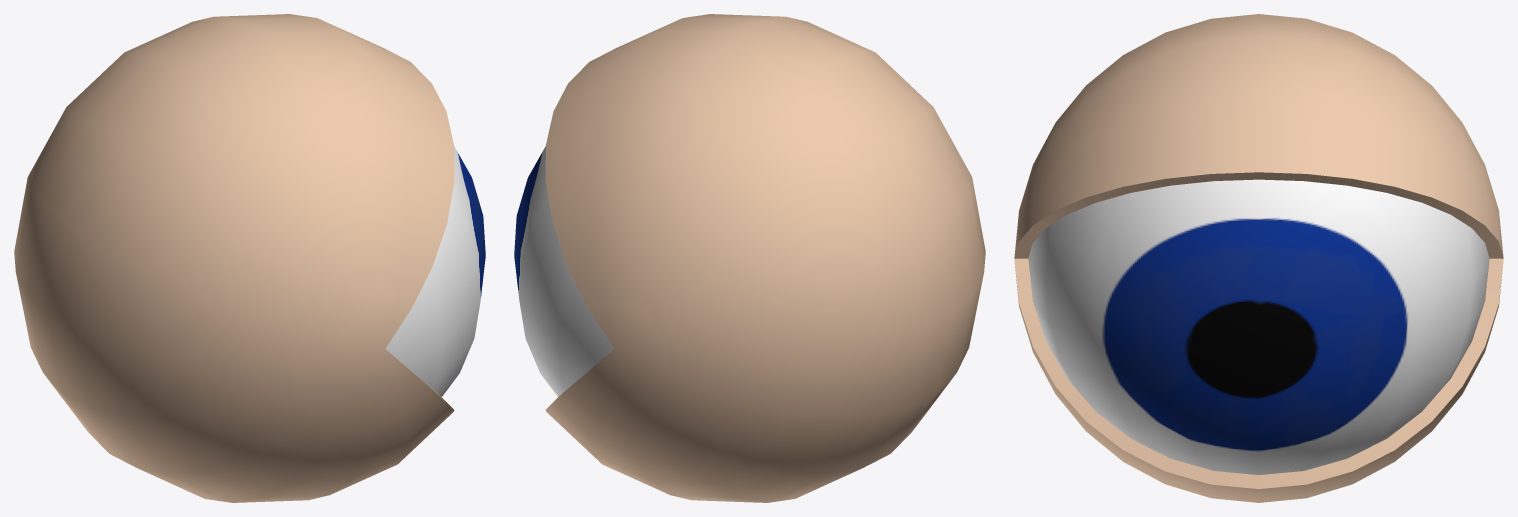
Rendered from eyeball.fbx.
The picture shows the model from 3 angles, left to right: view 1: azimuth 30°, elevation 25°; view 2: azimuth 150°, elevation 25°; view 3: azimuth 270°, elevation 25°; orthographic projection.
Parts seen in each view (by area): view 1: pSphere3; view 2: pSphere3; view 3: pSphere3.
Boxes of the visible parts, x1,y1,x2,y2 form: pSphere3: [14, 14, 485, 502]; pSphere3: [514, 14, 985, 502]; pSphere3: [1014, 14, 1503, 502].
Size of the model in its own units: 2.03 by 2.12 by 2.12.
